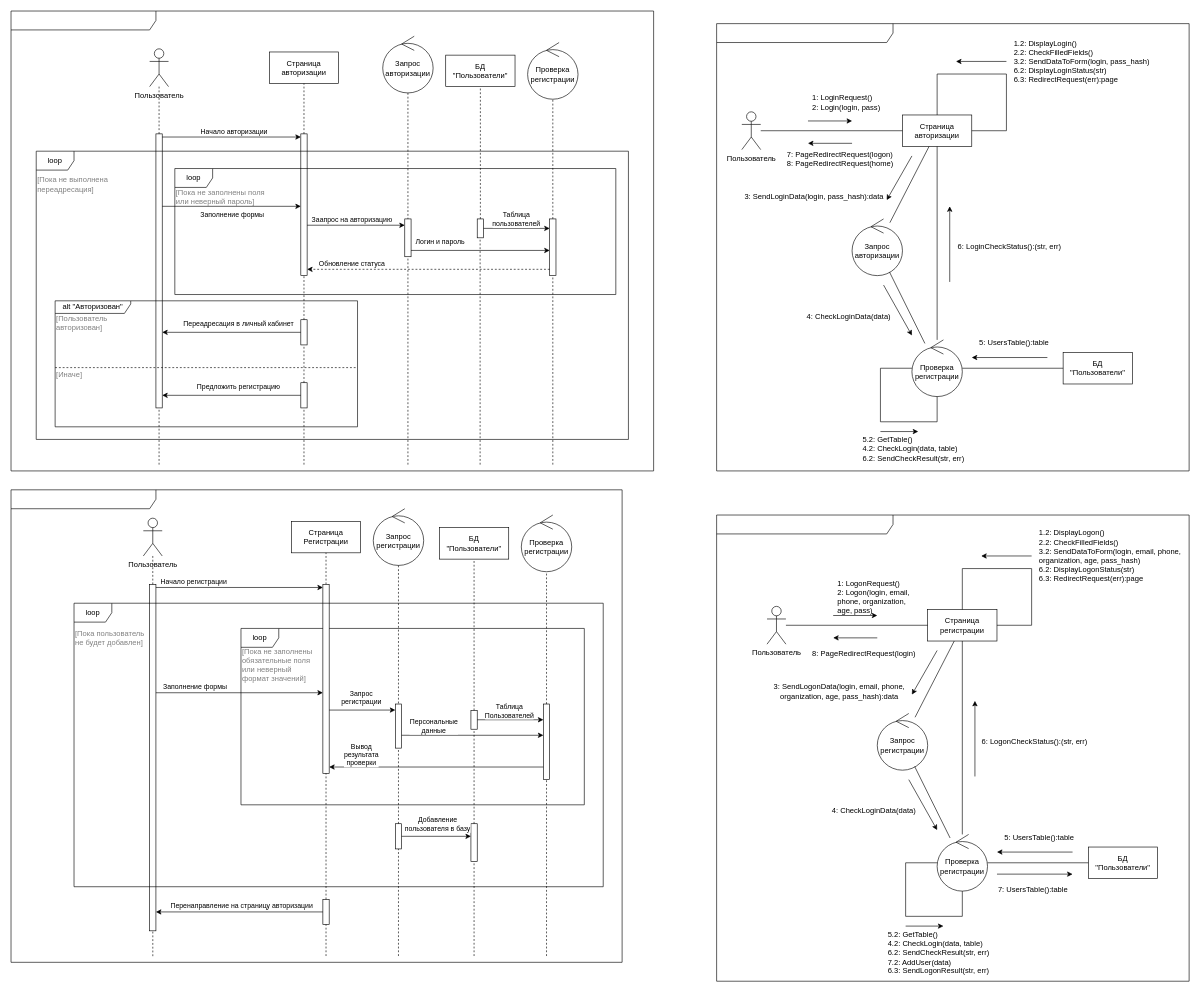
The diagram is 1200 pixels wide and 992 high, and some of its shapes have lost their labels. The box of each missing label's shape, as (x1, y1, x2, y2) in pixels:
sd "Авторизация пользователей": (10, 10, 654, 471)
sd "Регистрация пользователей": (10, 489, 622, 962)
коммуникации "Авторизация пользователей": (716, 23, 1189, 471)
коммуникации "Регистрация пользователей": (716, 514, 1189, 981)
